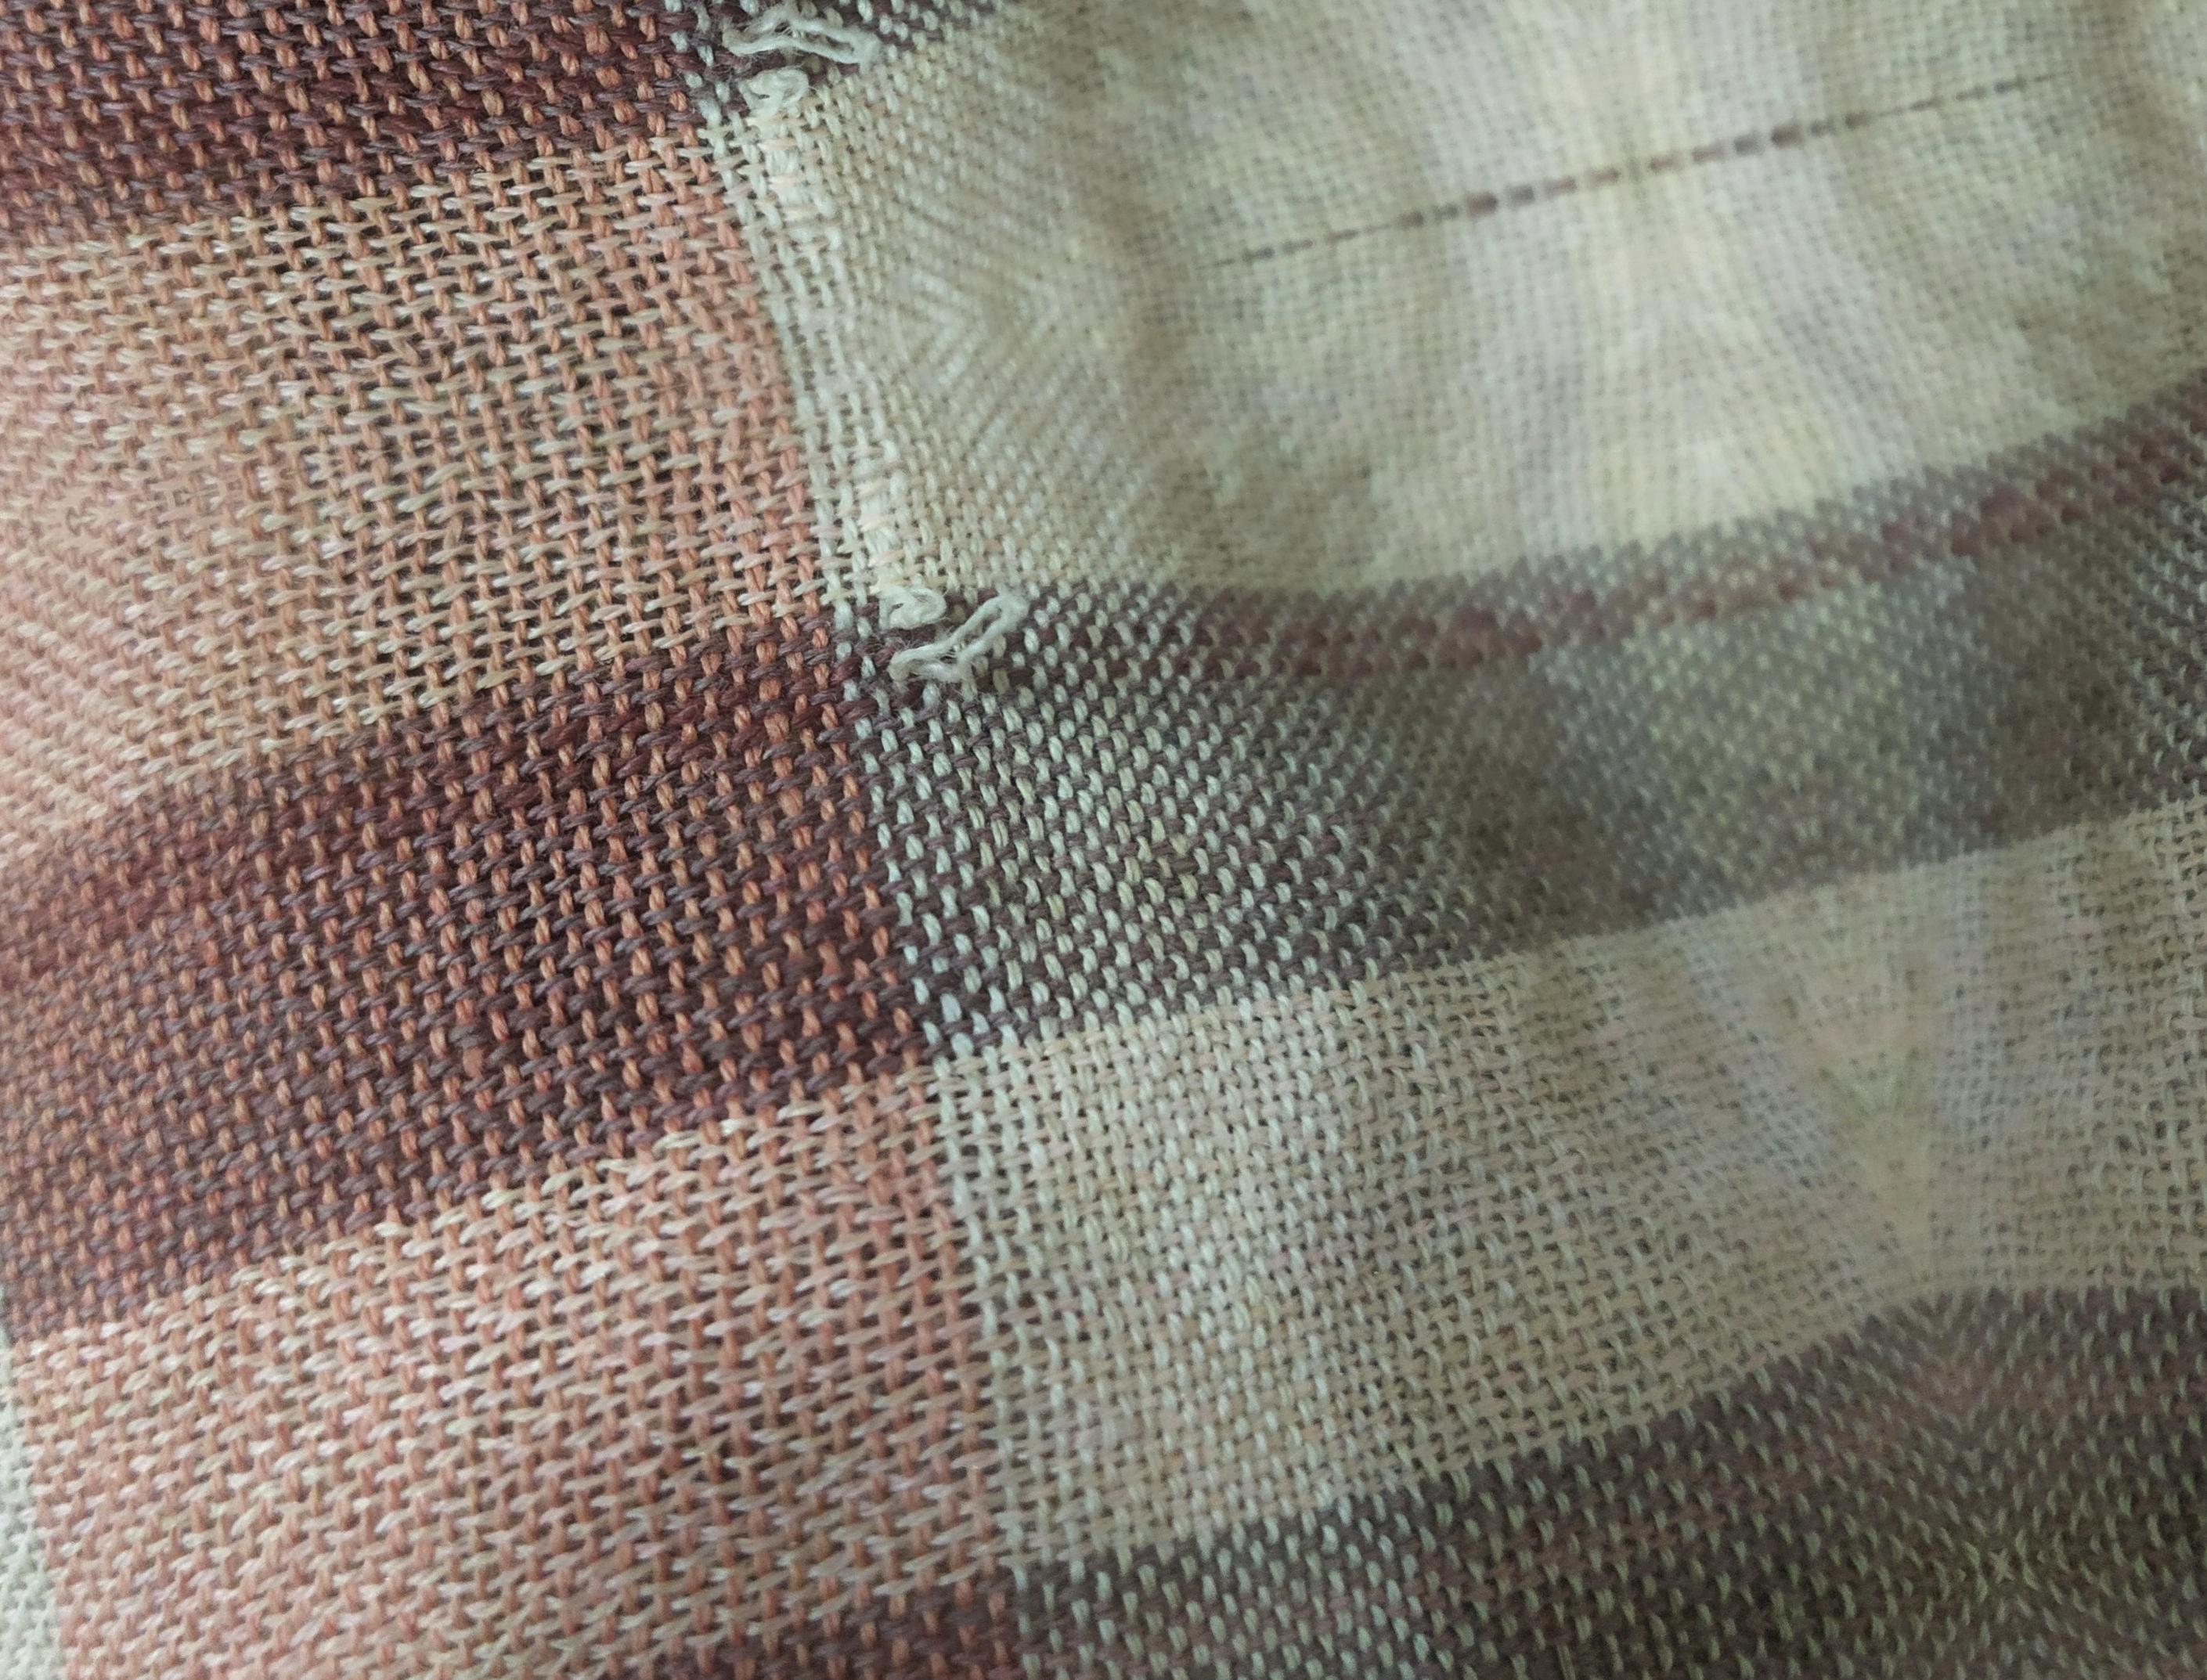snag: (866, 568, 1055, 702), (720, 2, 889, 124)
